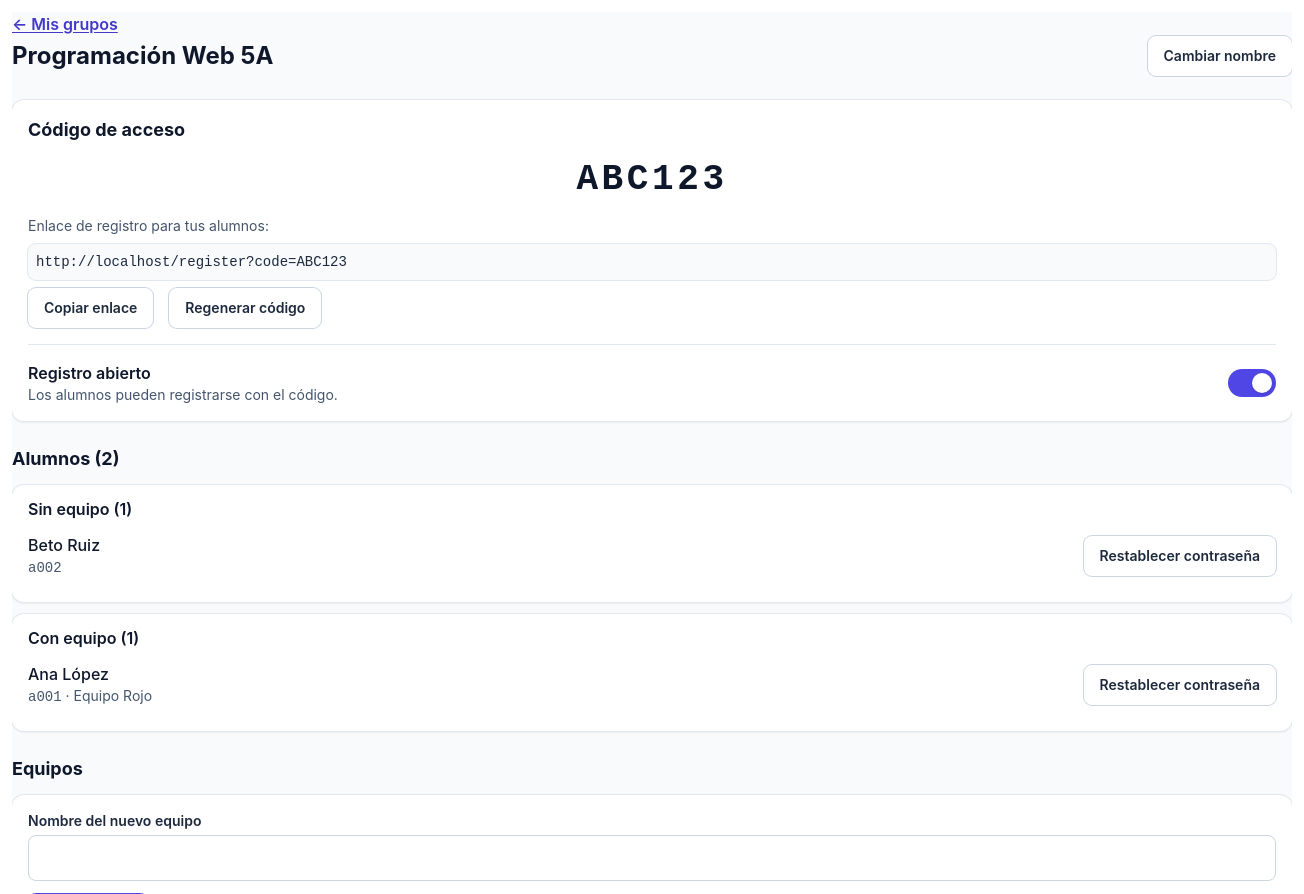
Test: GroupDetailPage › closes registration with the switch
The width and height of the screenshot is (1304, 894).
Click the switch named "Registro abierto". click: [1252, 383]
box: top-left (1228, 369), bottom-right (1276, 397)
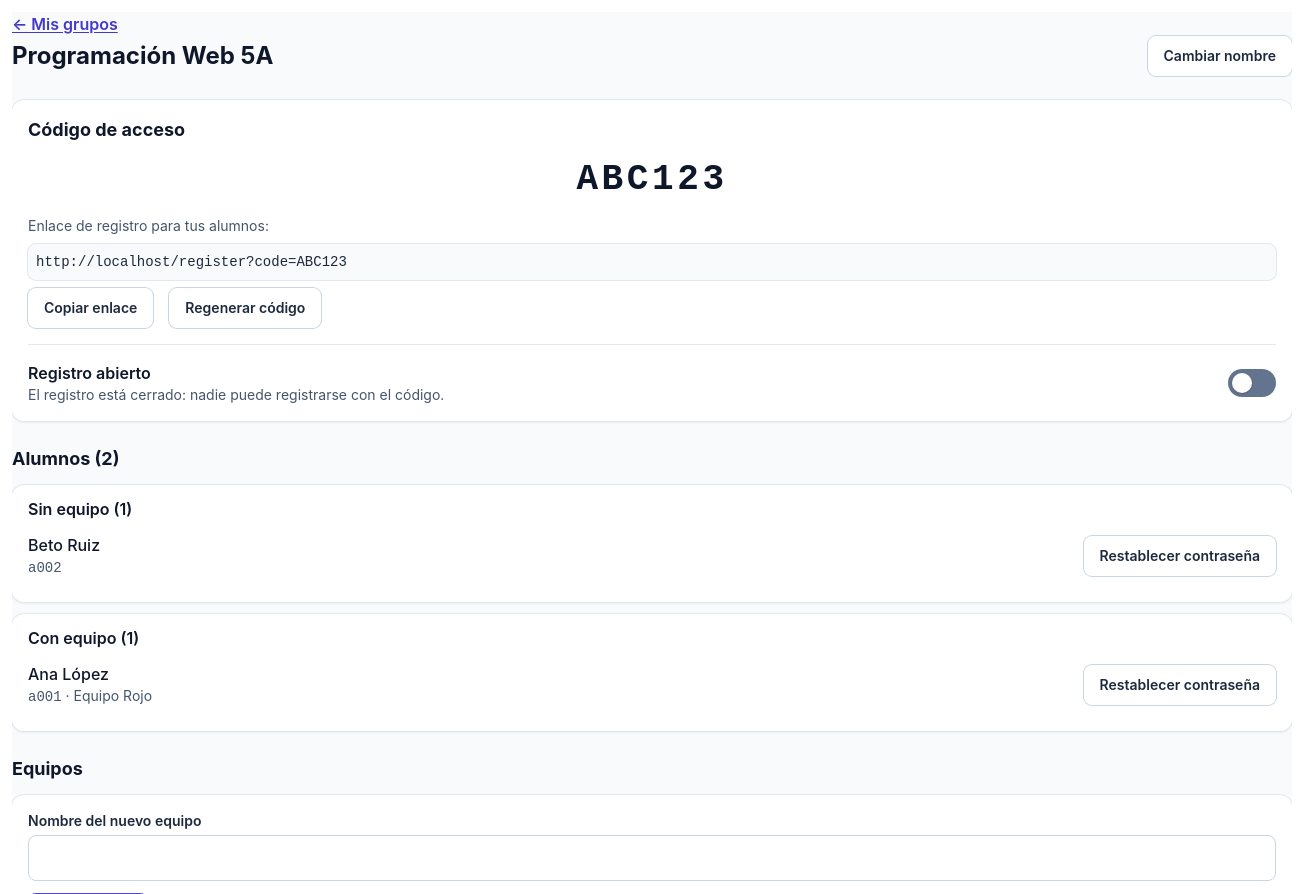
expect the text "El registro está cerrado" is shown: met, box top-left (28, 386), bottom-right (444, 403)
